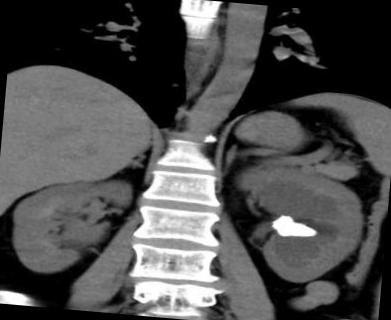Tas_Var: (268, 210, 323, 242)
